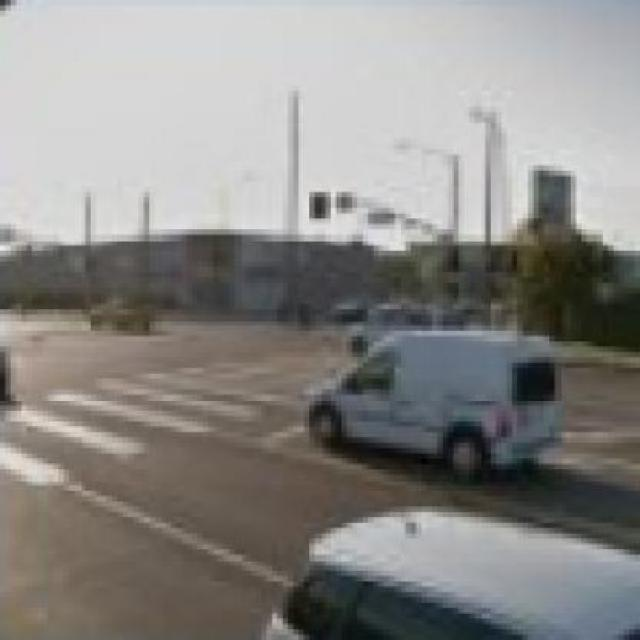crosswalk: (0, 349, 349, 489)
